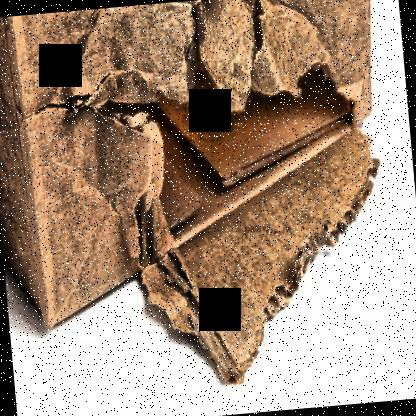defect parcel: (40, 44, 416, 416)
